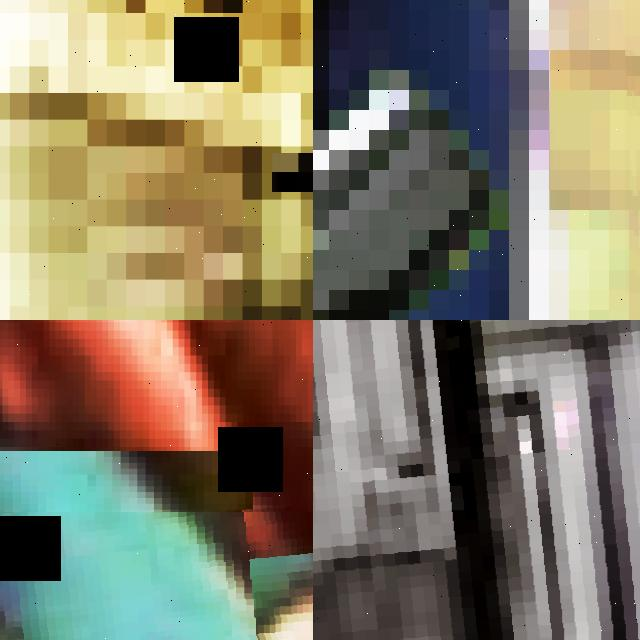arms: (313, 320, 640, 640), (0, 320, 313, 640), (0, 320, 313, 640), (313, 50, 549, 320), (0, 512, 313, 640)
